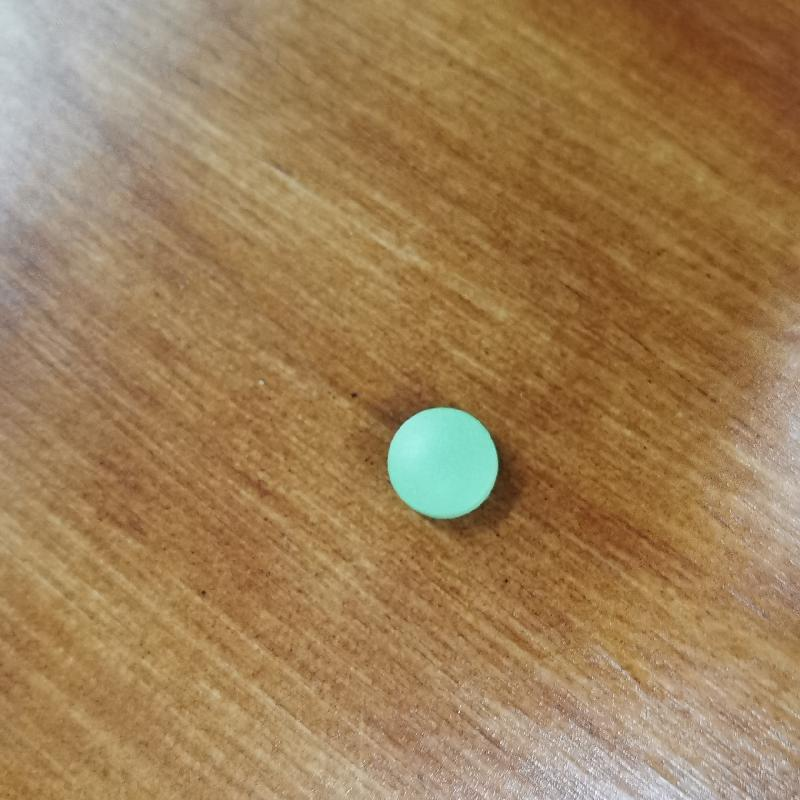pills: (382, 402, 506, 532)
